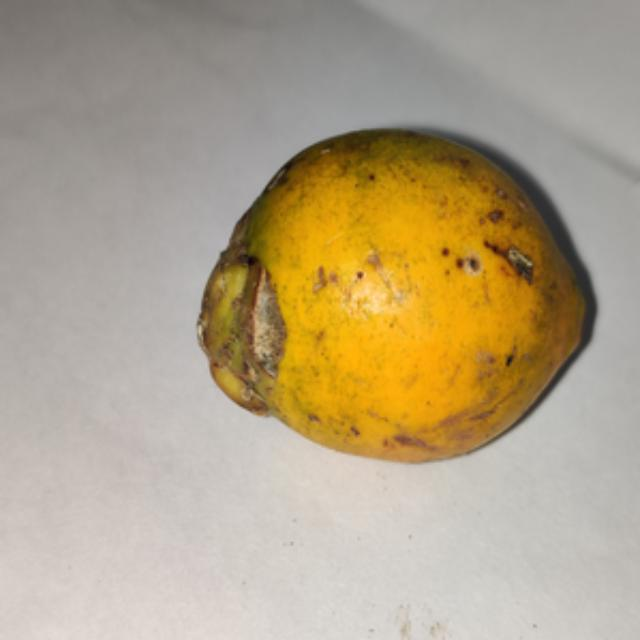good: (199, 131, 584, 460)
